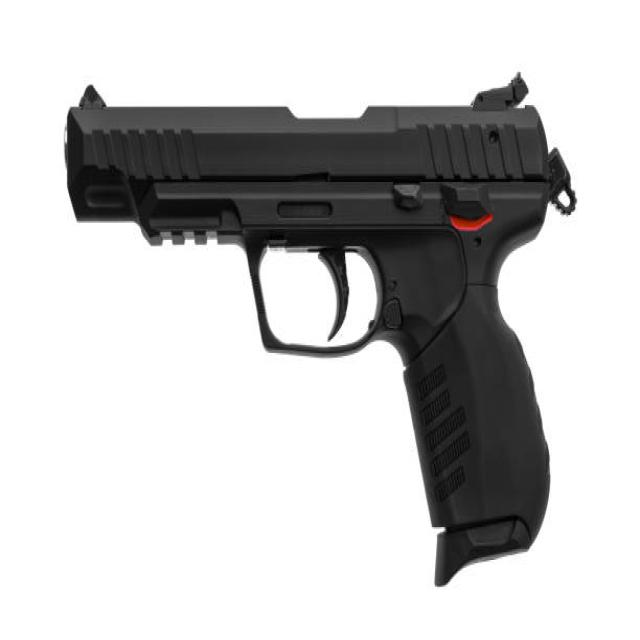pistol: (59, 67, 583, 598)
